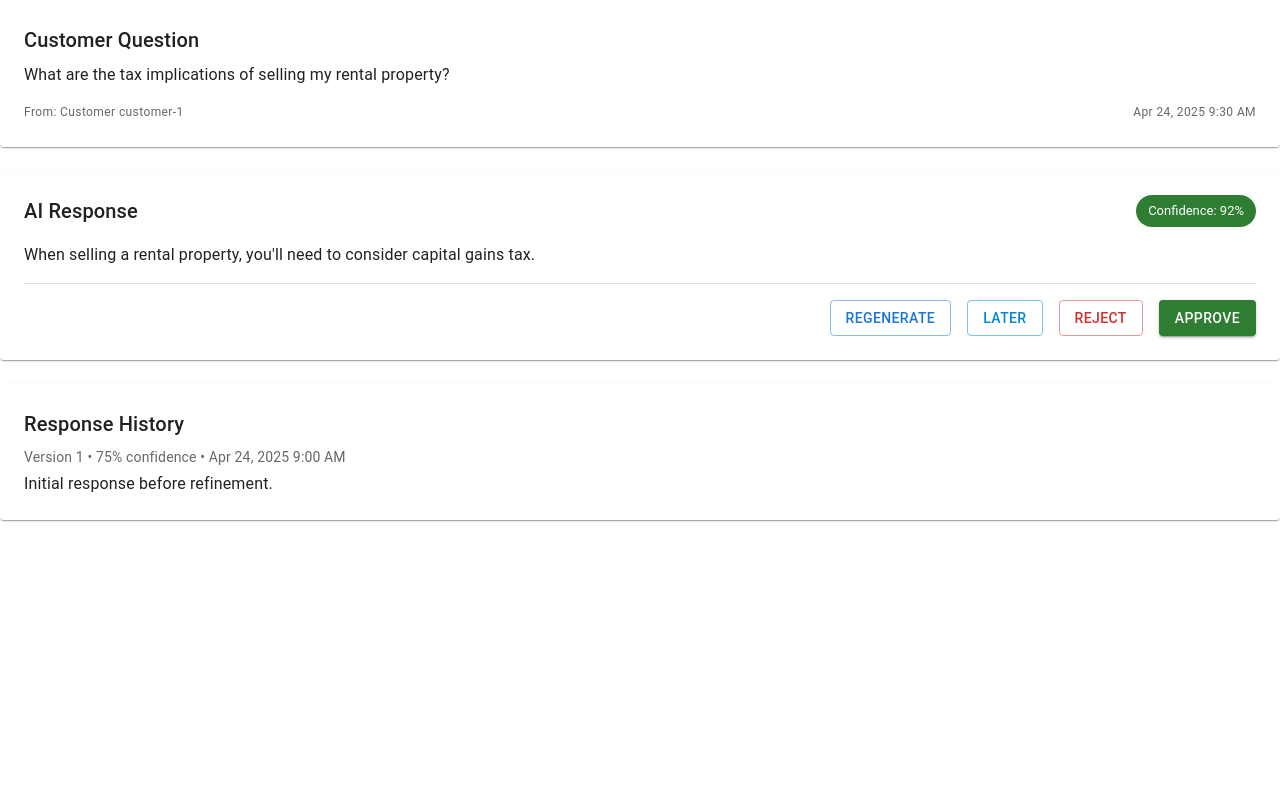
Scenario: MessageDetail › shows error message when status update fails
Click the Approve button
Click the button "Approve".
click(1207, 318)  # box [1159,300,1256,336]
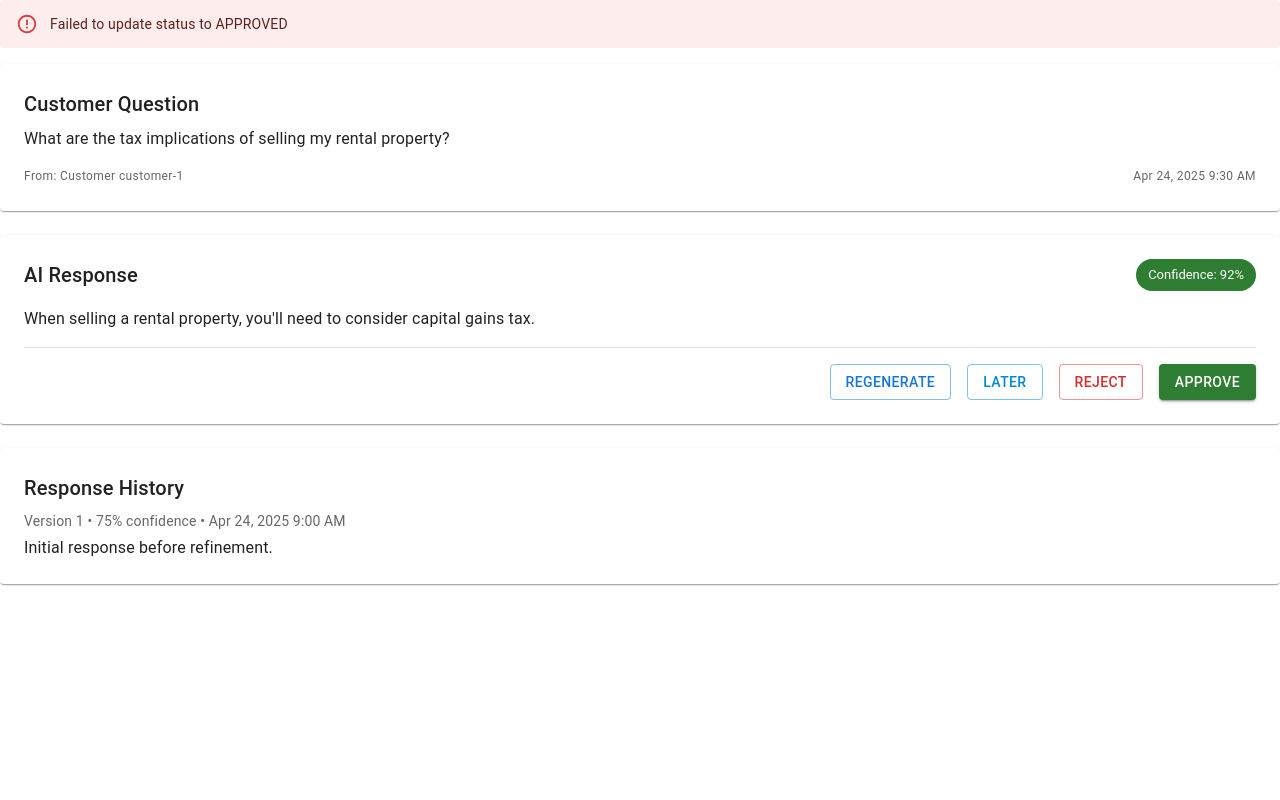
Expected: the text "Failed to update status to APPROVED" is shown, [50,16,288,32]
